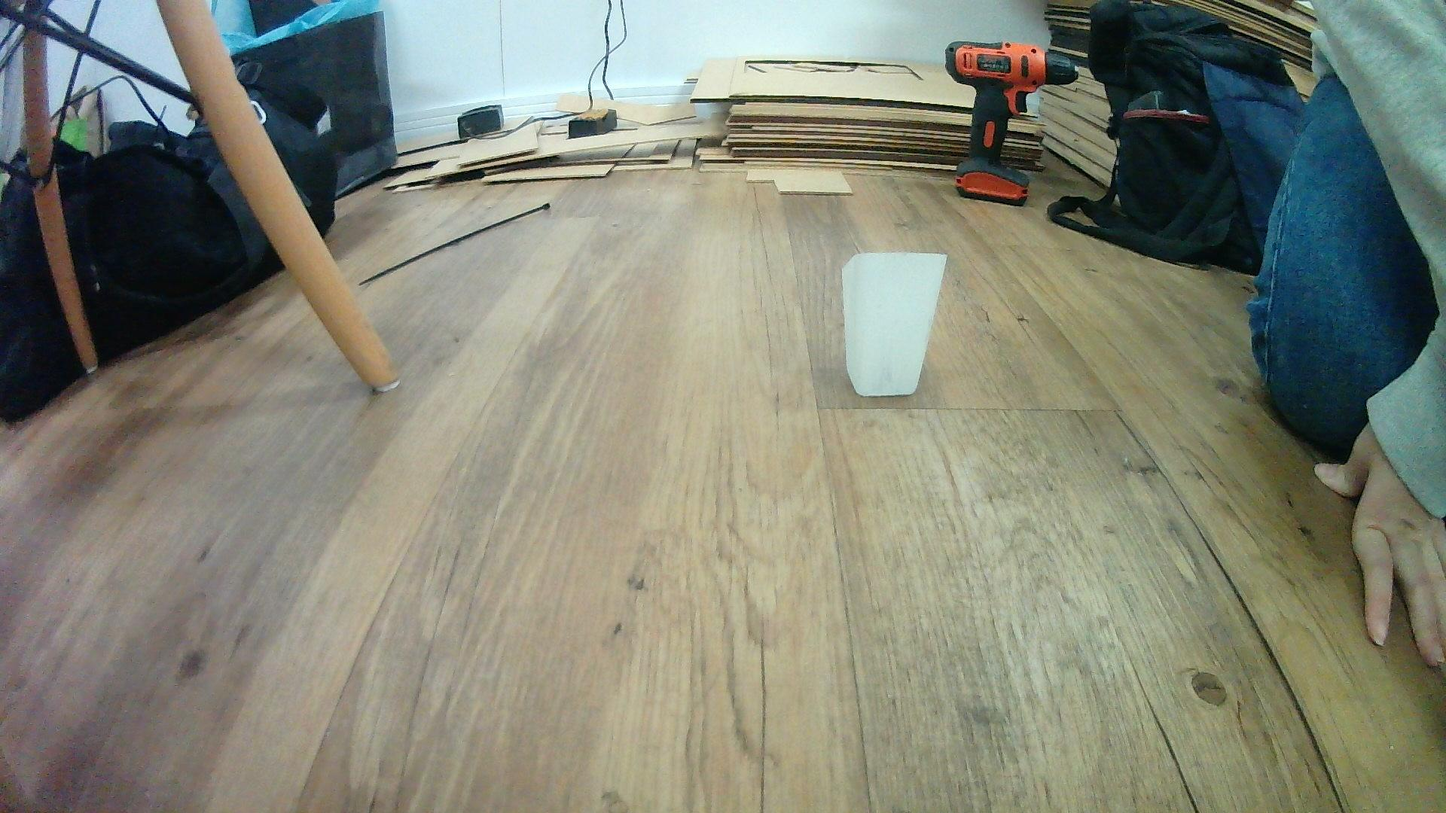erva_daninha: (840, 251, 950, 400)
